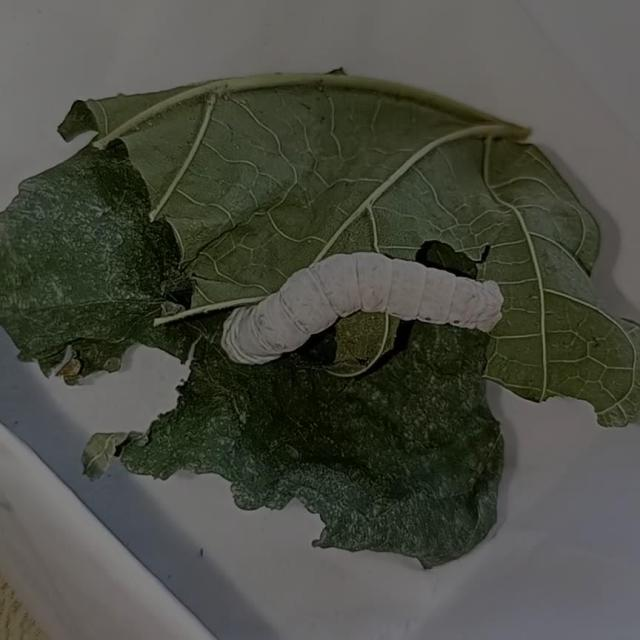Healthy: (218, 240, 510, 369)
